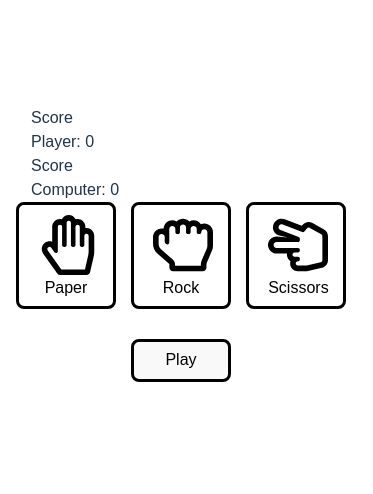
Results › should render that it was tie after 3 seconds
Click the button "Scissors": coordinates (296, 256) [246, 202, 346, 309]
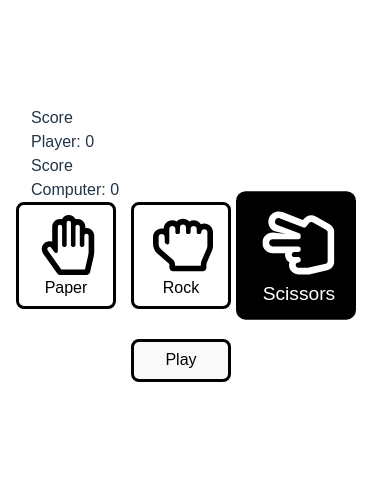
Click the button "Play": coordinates (181, 360) [131, 339, 231, 382]
Wait 3000 ms
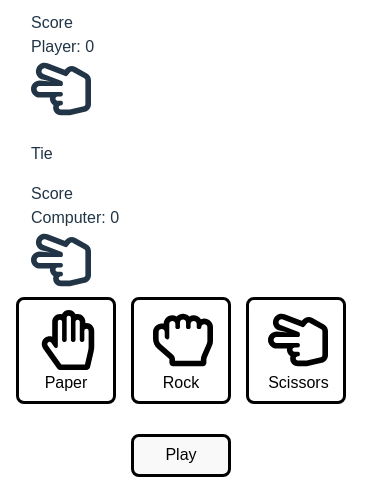
Check: the text with test id "winner" reads "Tie", box [31, 145, 53, 162]
Check: the icon with test id "paperHand|rockHand|scissorsHand" is shown, box [31, 59, 91, 119]
